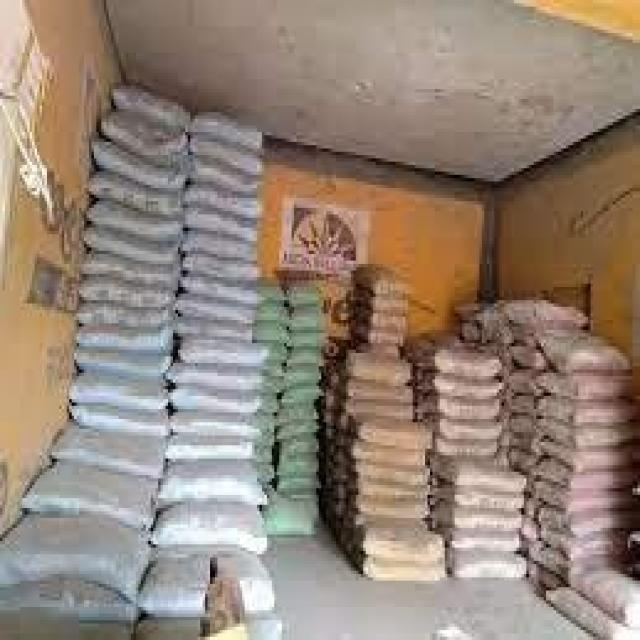gunny_bag: (3, 504, 153, 590), (34, 460, 163, 530), (60, 417, 169, 483), (155, 499, 267, 549), (155, 457, 261, 507), (82, 220, 180, 265), (96, 144, 186, 187), (541, 330, 631, 372), (96, 178, 176, 224), (76, 366, 168, 405), (116, 82, 189, 128), (174, 358, 266, 394), (173, 388, 262, 422), (191, 203, 261, 246), (183, 333, 269, 366), (192, 109, 264, 148), (85, 277, 170, 309), (184, 289, 252, 329), (542, 400, 634, 429), (545, 443, 632, 473), (357, 416, 430, 451), (82, 322, 170, 350), (190, 250, 259, 285), (361, 525, 443, 553), (548, 375, 635, 399), (443, 459, 523, 485), (350, 354, 414, 385), (438, 349, 500, 380), (202, 161, 256, 196), (360, 459, 430, 486), (459, 506, 522, 535), (362, 494, 428, 520), (442, 393, 501, 418), (443, 418, 502, 441), (354, 380, 412, 401), (290, 309, 326, 336), (281, 417, 318, 442), (282, 453, 316, 480), (288, 382, 321, 409), (290, 345, 324, 369), (373, 294, 408, 317), (255, 306, 289, 327), (370, 330, 403, 347)
